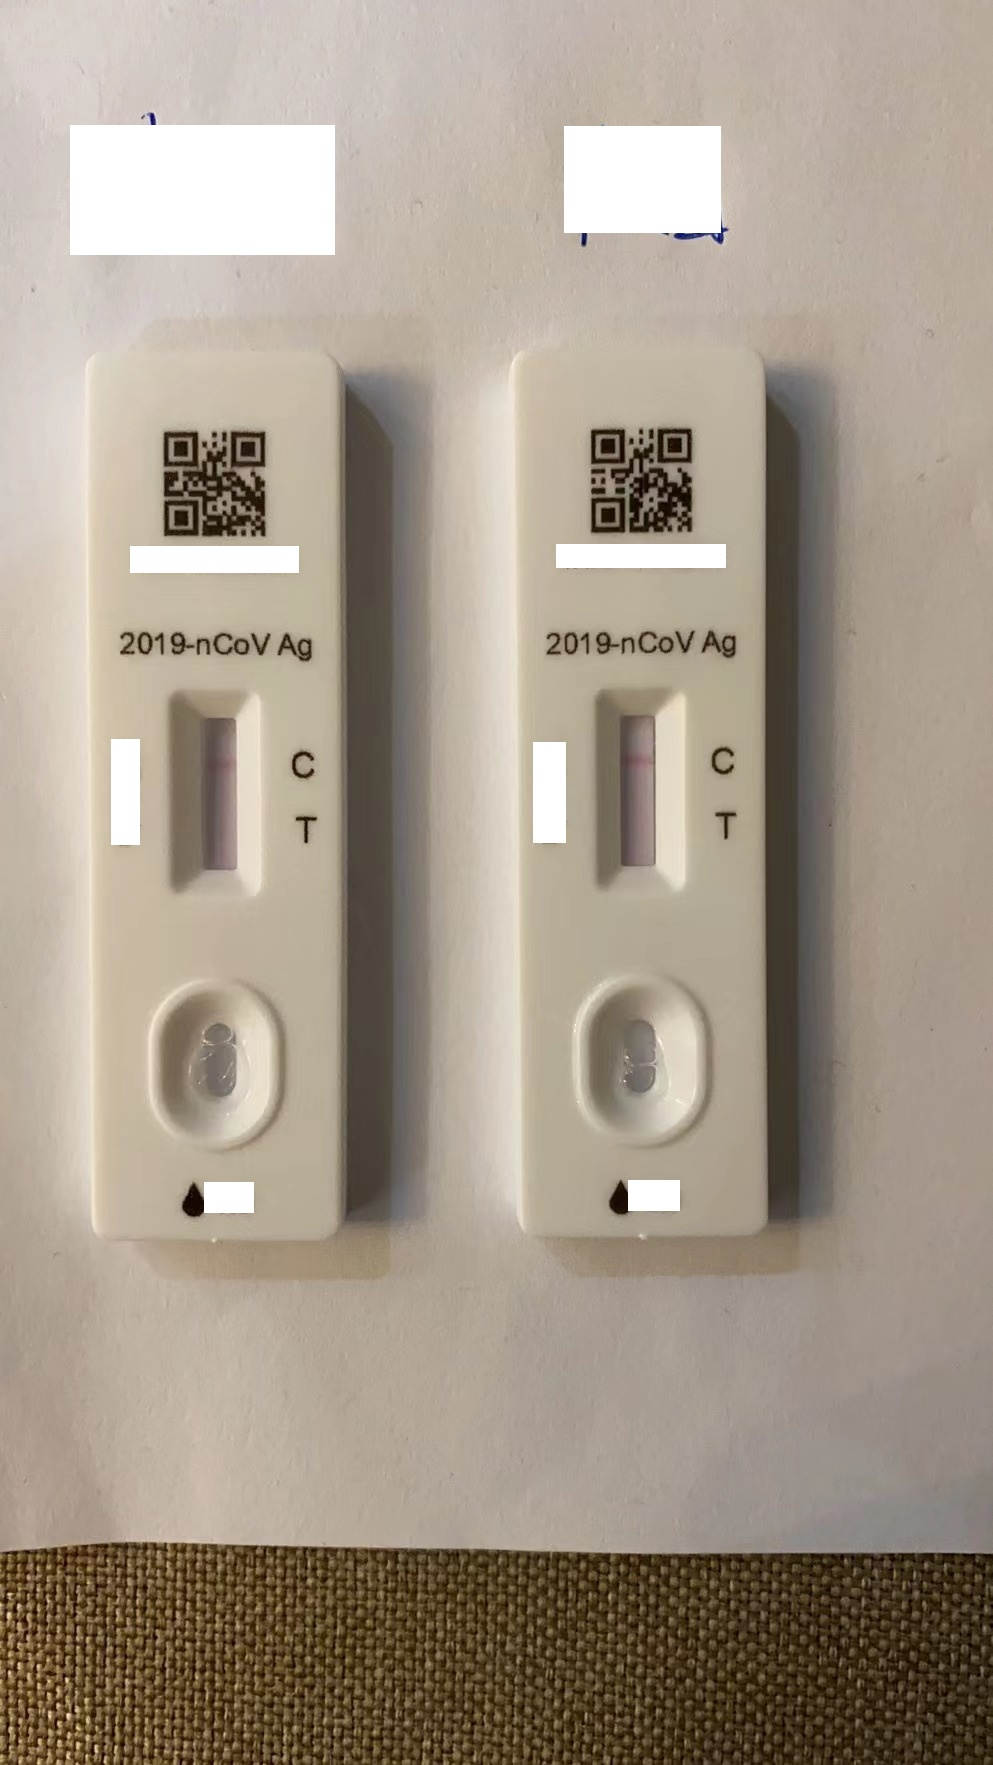negative: (167, 689, 258, 898), (595, 682, 681, 893)
